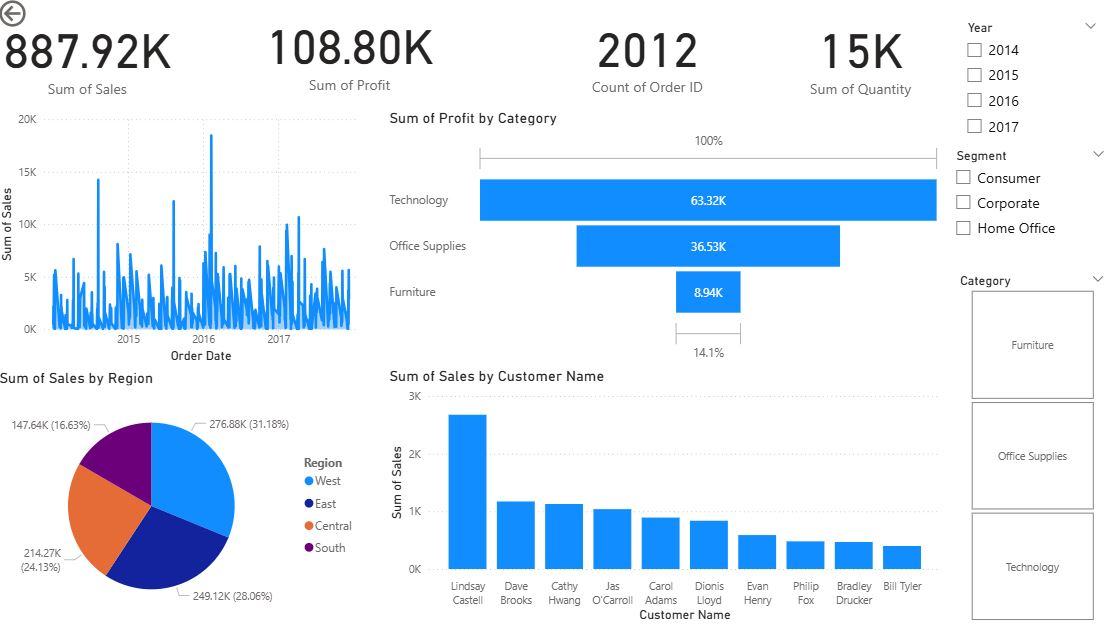

The page's visual inventory and layout, read from the dashboard file:
{"tool":"powerbi","page":{"name":"Page 1","canvas":[1280,720],"ordinal":0},"visuals":[{"type":"card","fields":{"Values":["Sum(Sample - Superstore.Sales)"]},"box":[0,3.6,211.1,125.5],"z":0},{"type":"card","fields":{"Values":["Sum(Sample - Superstore.Profit)"]},"box":[236.5,2.4,336.6,120.6],"z":1000},{"type":"card","fields":{"Values":["Sum(Sample - Superstore.Quantity)"]},"box":[892.8,4.8,193,125.5],"z":2000},{"type":"card","fields":{"Values":["Count(Sample - Superstore.Order ID)"]},"box":[598.4,2.4,294.4,125.5],"z":3000},{"type":"actionButton","box":[0,0,100,40],"z":4000},{"type":"areaChart","fields":{"Category":["Sample - Superstore.Order Date"],"Y":["Sum(Sample - Superstore.Sales)"]},"box":[0,127.3,422.7,297.7],"z":5000},{"type":"funnel","fields":{"Category":["Sample - Superstore.Category"],"Y":["Sum(Sample - Superstore.Profit)"]},"box":[445.2,129.1,640.6,295.6],"z":6000},{"type":"pieChart","fields":{"Category":["Sample - Superstore.Region"],"Y":["Sum(Sample - Superstore.Sales)"]},"box":[0,425,422.7,295.5],"z":7000},{"type":"clusteredColumnChart","fields":{"Category":["Sample - Superstore.Customer Name"],"Y":["Sum(Sample - Superstore.Sales)"]},"box":[445.2,424.7,640.6,295.6],"z":8000},{"type":"slicer","fields":{"Values":["Sample - Superstore.Category"]},"box":[1090.6,311.3,189.4,409],"z":9000},{"type":"slicer","fields":{"Values":["Sample - Superstore.Year"]},"box":[1097.9,22.9,172.5,146],"z":11000},{"type":"slicer","fields":{"Values":["Sample - Superstore.Segment"]},"box":[1085.8,168.9,194.2,124.3],"z":12000}]}

Visuals, with their boxes in screenshot pixels (x1, y1, x2, y2), scaled from the page's 1280x720 canvas onto the 1111x626 screenshot:
card - Sum(Sample - Superstore.Sales): box=[0, 3, 183, 112]
card - Sum(Sample - Superstore.Profit): box=[205, 2, 497, 107]
card - Sum(Sample - Superstore.Quantity): box=[775, 4, 942, 113]
card - Count(Sample - Superstore.Order ID): box=[519, 2, 775, 111]
actionButton: box=[0, 0, 87, 35]
areaChart - Sample - Superstore.Order Date x Sum(Sample - Superstore.Sales): box=[0, 111, 367, 370]
funnel - Sample - Superstore.Category x Sum(Sample - Superstore.Profit): box=[386, 112, 942, 369]
pieChart - Sample - Superstore.Region x Sum(Sample - Superstore.Sales): box=[0, 370, 367, 625]
clusteredColumnChart - Sample - Superstore.Customer Name x Sum(Sample - Superstore.Sales): box=[386, 369, 942, 625]
slicer - Sample - Superstore.Category: box=[947, 271, 1110, 625]
slicer - Sample - Superstore.Year: box=[953, 20, 1103, 147]
slicer - Sample - Superstore.Segment: box=[942, 147, 1110, 255]
